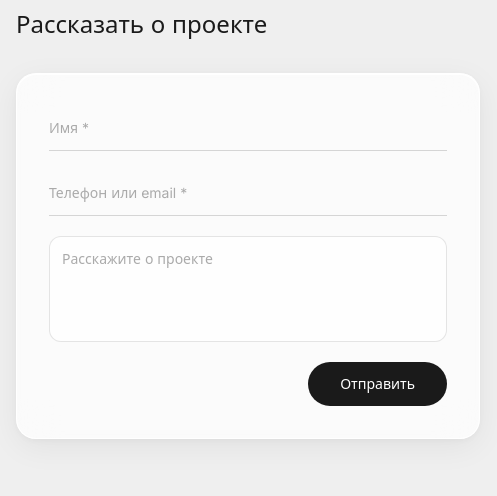
Test: BriefPage › shows error on submit with empty required fields
Click the button "Отправить" at coordinates (378, 384), box [308,362,447,406]
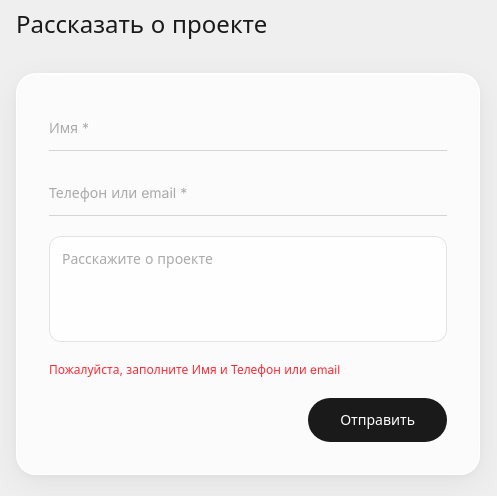
Now the text "Пожалуйста, заполните Имя и Телефон или email" is shown, box [49,362,340,377]
